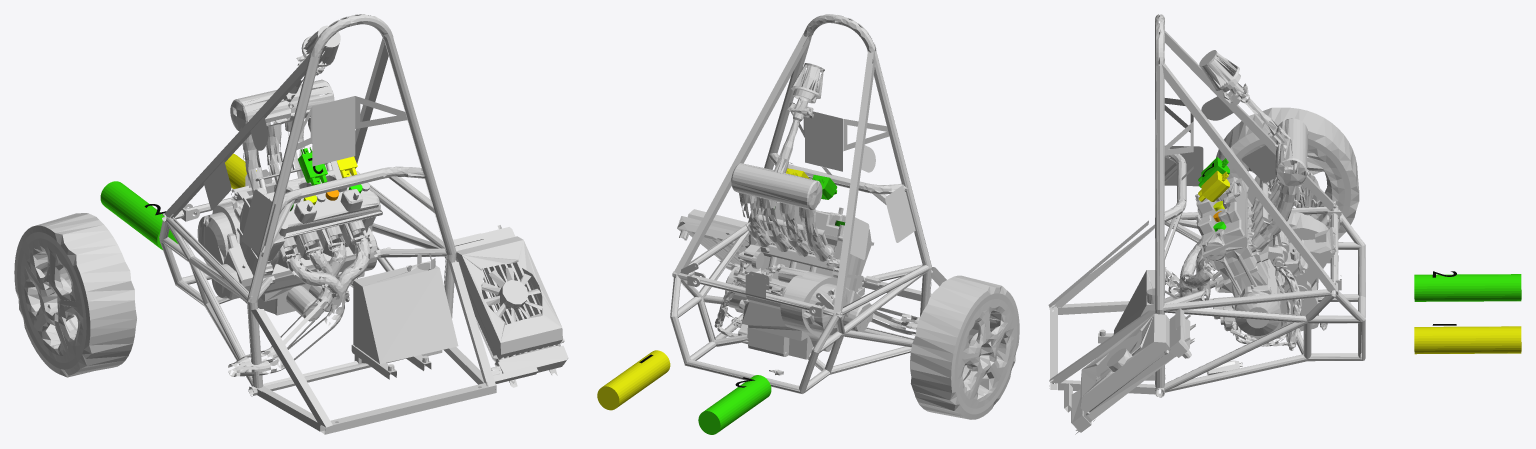
The model's file is Bobinas.glb.
The picture shows the model from 3 angles, left to right: view 1: azimuth 30°, elevation 25°; view 2: azimuth 150°, elevation 25°; view 3: azimuth 270°, elevation 25°; orthographic projection. The views are drawn at different scales.
Visible parts, largest first — view 1: Motor Etc, Chassis Trazeiro, Roda, indt roda.007, Elet.003, Elet.004, indt roda.006; view 2: Chassis Trazeiro, Motor Etc, Roda, indt roda.007, indt roda.006; view 3: Motor Etc, Chassis Trazeiro, Roda, indt roda.006, indt roda.007, Elet.002, Elet.003.
Boxes of the visible parts, x1,y1,x2,y2 form: Motor Etc: (197, 25, 568, 387); Chassis Trazeiro: (159, 14, 537, 434); Roda: (14, 213, 136, 377); indt roda.007: (100, 181, 177, 249); Elet.003: (481, 267, 542, 322); Elet.004: (298, 147, 327, 185); indt roda.006: (225, 153, 256, 188); Chassis Trazeiro: (670, 14, 946, 393); Motor Etc: (677, 63, 919, 359); Roda: (910, 275, 1019, 419); indt roda.007: (698, 375, 771, 434); indt roda.006: (597, 350, 670, 410); Motor Etc: (1071, 50, 1336, 434); Chassis Trazeiro: (1048, 14, 1365, 412); Roda: (1216, 107, 1359, 239); indt roda.006: (1414, 326, 1521, 354); indt roda.007: (1414, 274, 1521, 301); Elet.002: (1198, 170, 1229, 201); Elet.003: (1100, 342, 1139, 379).
Bounding box in the file's own units: 11.53 × 9.91 × 12.39.
